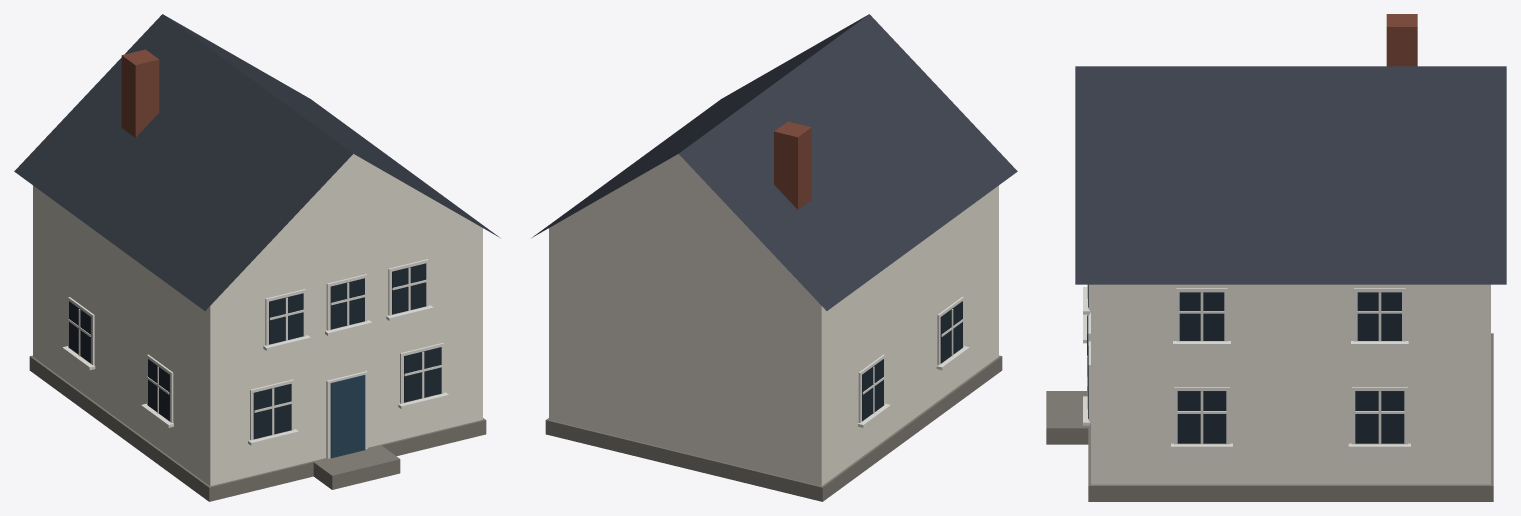
File: house1.glb
3 renders of one model, left to right at view 1: azimuth 30°, elevation 25°; view 2: azimuth 150°, elevation 25°; view 3: azimuth 270°, elevation 25°, orthographic. The views are drawn at different scales.
Parts seen in each view (by area): view 1: house; view 2: house; view 3: house.
Boxes of the visible parts, left/top/right/bottom form: house: left=14, top=14, right=499, bottom=501; house: left=532, top=14, right=1017, bottom=501; house: left=1046, top=14, right=1506, bottom=501.
Bounding box in the file's own units: 8.7 × 9.13 × 10.35.
